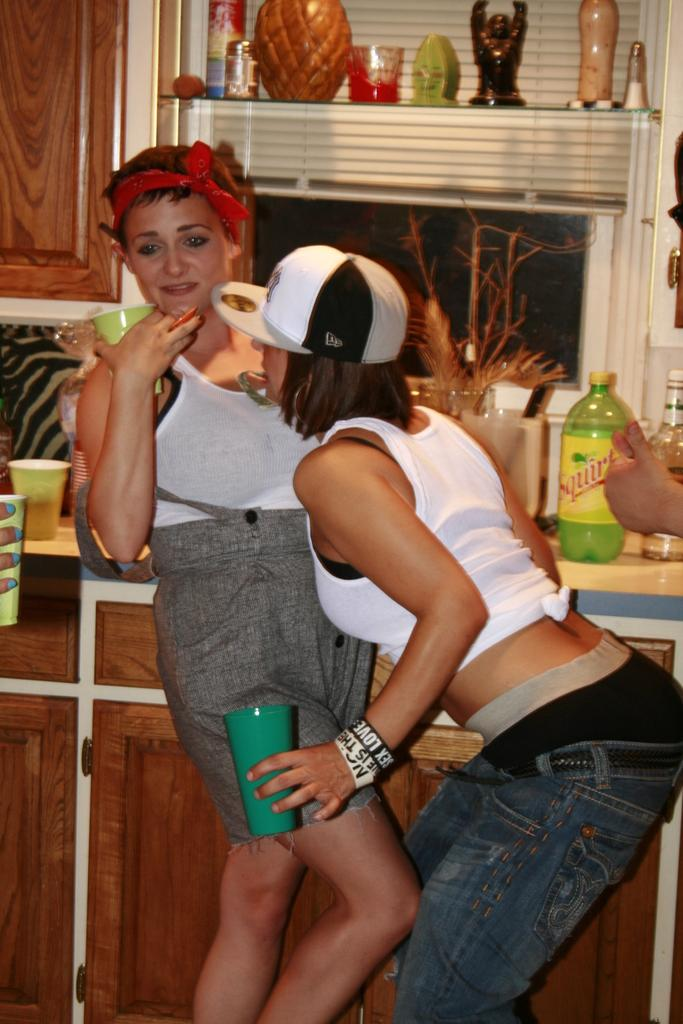Hat: (214, 244, 408, 362)
